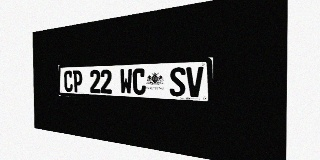2: (100, 69, 112, 94), (90, 70, 100, 93)
C: (132, 68, 146, 95), (64, 70, 73, 92)
P: (73, 70, 82, 92)
S: (169, 67, 185, 97)
V: (186, 66, 203, 97)
W: (120, 69, 132, 94)
